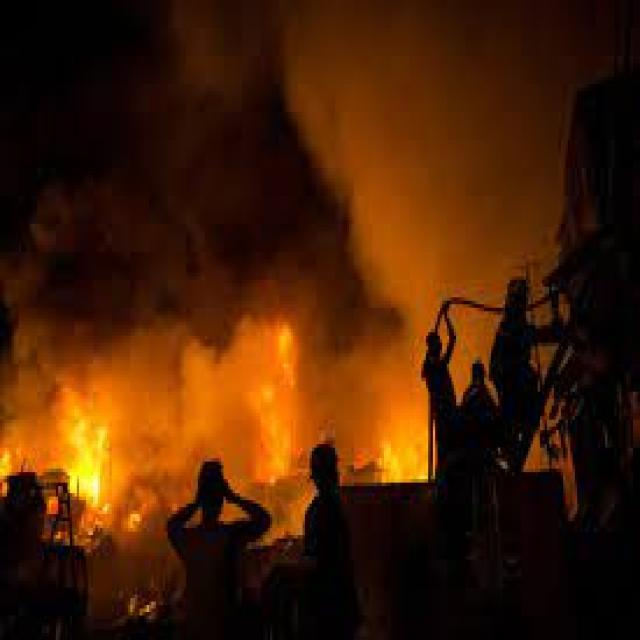Fire: (142, 350, 423, 443), (49, 410, 128, 524)
Smoke: (116, 8, 564, 298)
